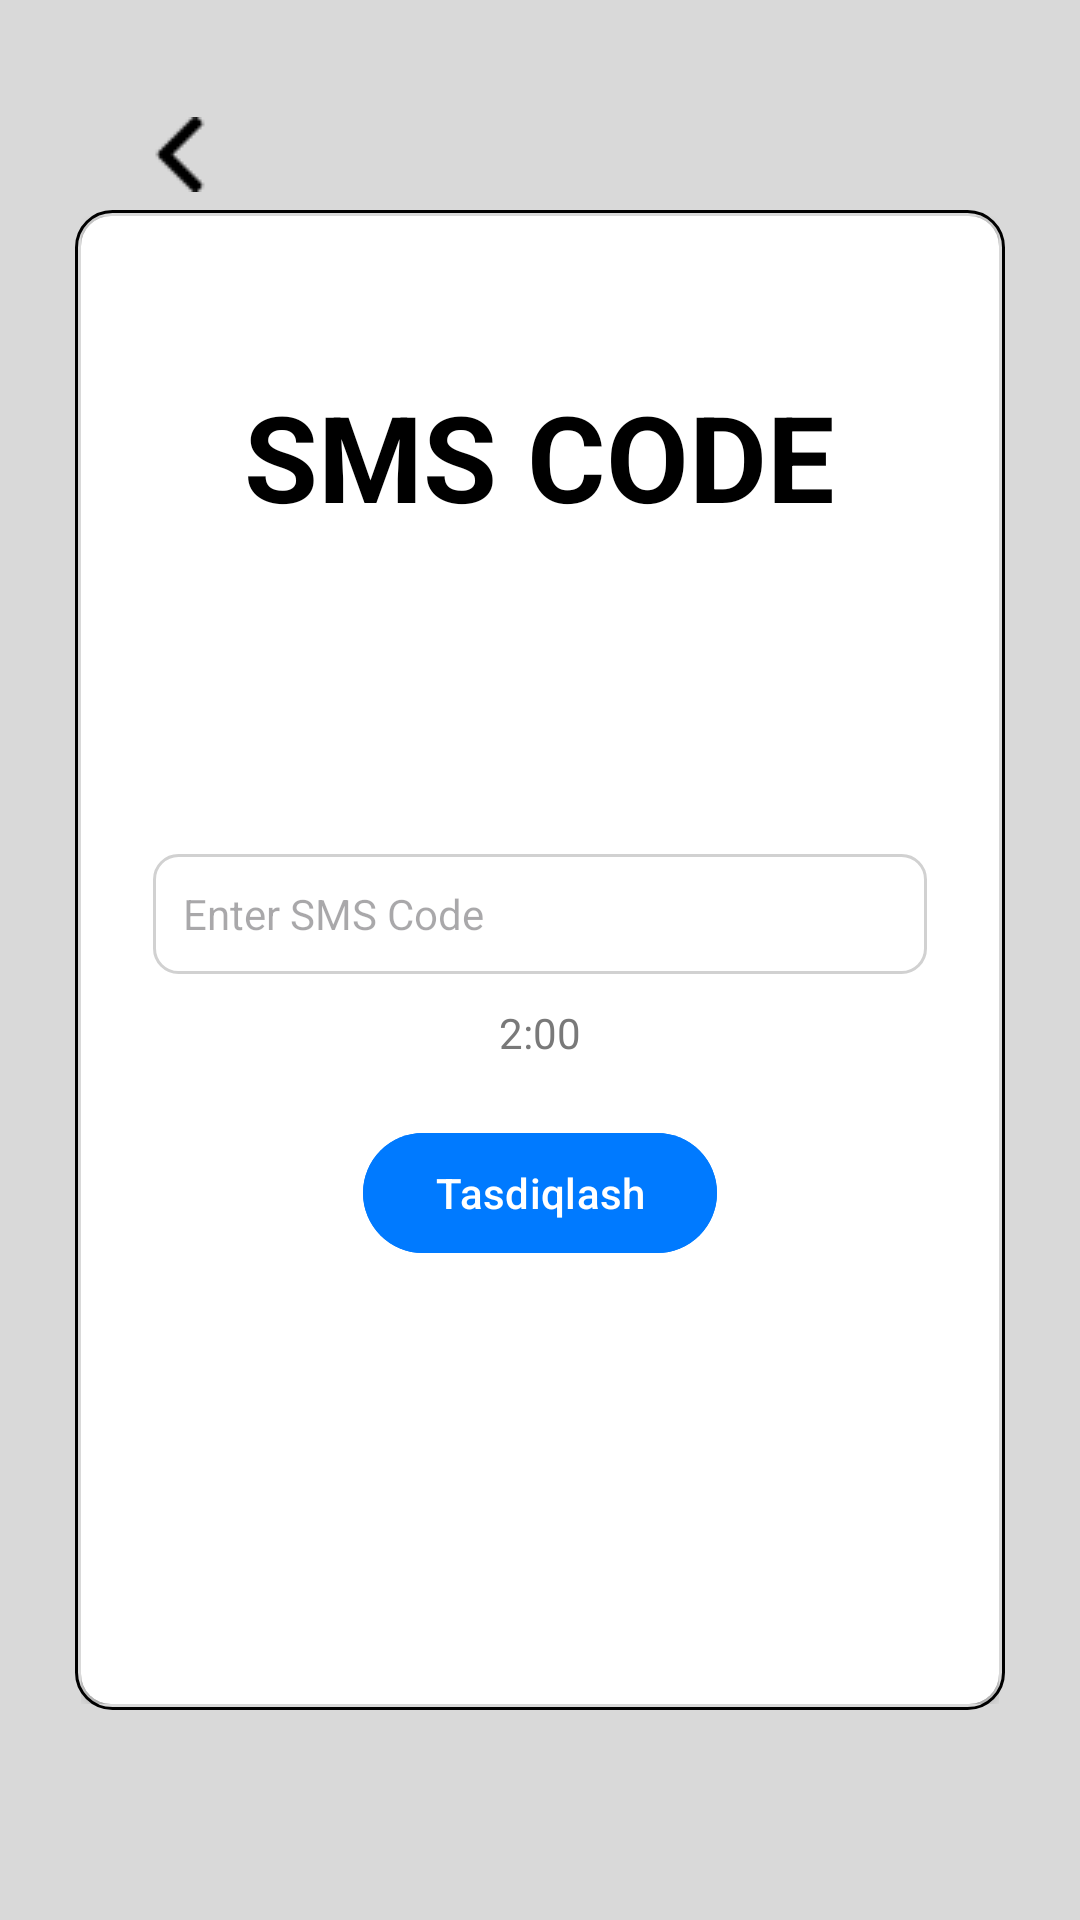

Named icons in this screenshot (1080×1920) and their centers, (x=x, y=y):
back: (x=180, y=154)
